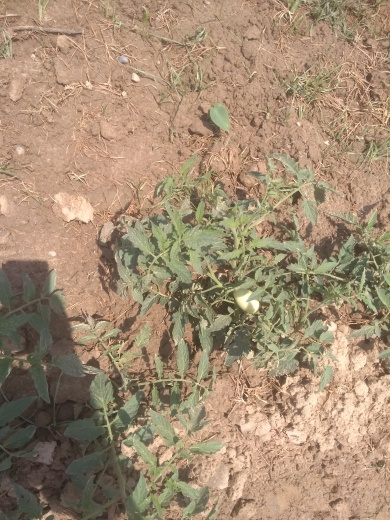tomato: (230, 285, 267, 320)
tomato plant: (6, 289, 201, 520), (136, 183, 390, 346)
